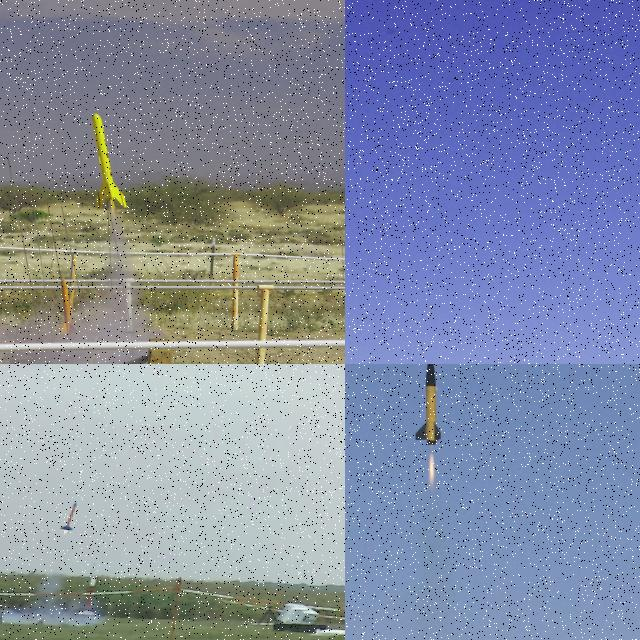Rocket: (91, 113, 128, 211), (414, 364, 442, 446), (60, 278, 80, 336), (76, 576, 97, 616), (61, 500, 78, 530)
